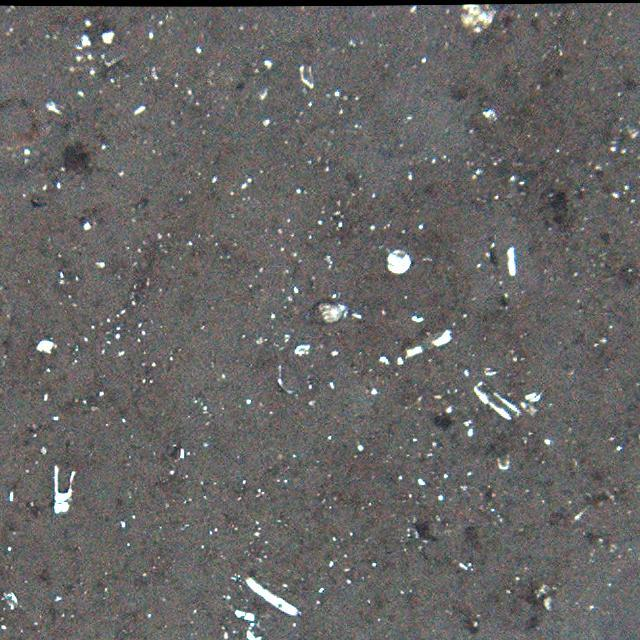whelk: (304, 298, 348, 326)
